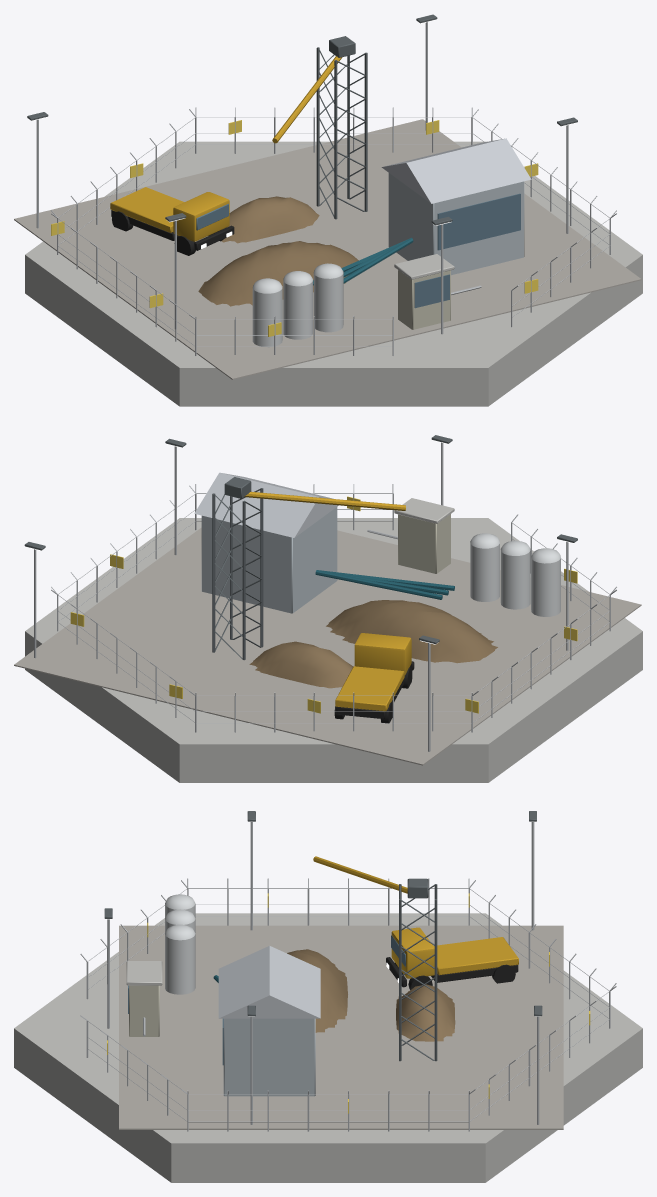
Rendered from extractor_silicon.glb.
3 views of the same model, one above another, from view 1: azimuth 30°, elevation 25°; view 2: azimuth 150°, elevation 25°; view 3: azimuth 270°, elevation 25° (orthographic).
Parts seen in each view (by area): view 1: gravel, wall_concrete, cladding, paint, earth, metal, steel_dark, glass, hazard, dark; view 2: gravel, wall_concrete, cladding, paint, earth, metal, steel_dark, hazard, dark; view 3: gravel, wall_concrete, cladding, metal, paint, earth, steel_dark, dark.
Part boxes in pixels (x1,y1,x2,y2): gravel: [14, 119, 641, 379]; wall_concrete: [25, 141, 642, 406]; cladding: [381, 138, 531, 329]; paint: [110, 56, 413, 347]; earth: [198, 196, 358, 306]; metal: [36, 22, 616, 355]; steel_dark: [27, 14, 577, 225]; glass: [196, 193, 520, 308]; hazard: [51, 120, 538, 336]; dark: [111, 210, 234, 255]; gravel: [14, 527, 641, 765]; wall_concrete: [25, 498, 642, 782]; cladding: [194, 472, 450, 613]; paint: [244, 491, 560, 711]; earth: [249, 600, 497, 688]; metal: [34, 442, 616, 751]; steel_dark: [24, 435, 577, 660]; hazard: [70, 496, 577, 713]; dark: [334, 661, 414, 723]; gravel: [119, 925, 563, 1129]; wall_concrete: [14, 913, 642, 1182]; cladding: [129, 945, 320, 1096]; metal: [80, 822, 616, 1131]; paint: [165, 856, 518, 994]; earth: [287, 949, 455, 1041]; steel_dark: [104, 811, 542, 1061]; dark: [386, 957, 518, 989].
Size of the model in its own units: 21.3 by 9.1 by 24.6.
